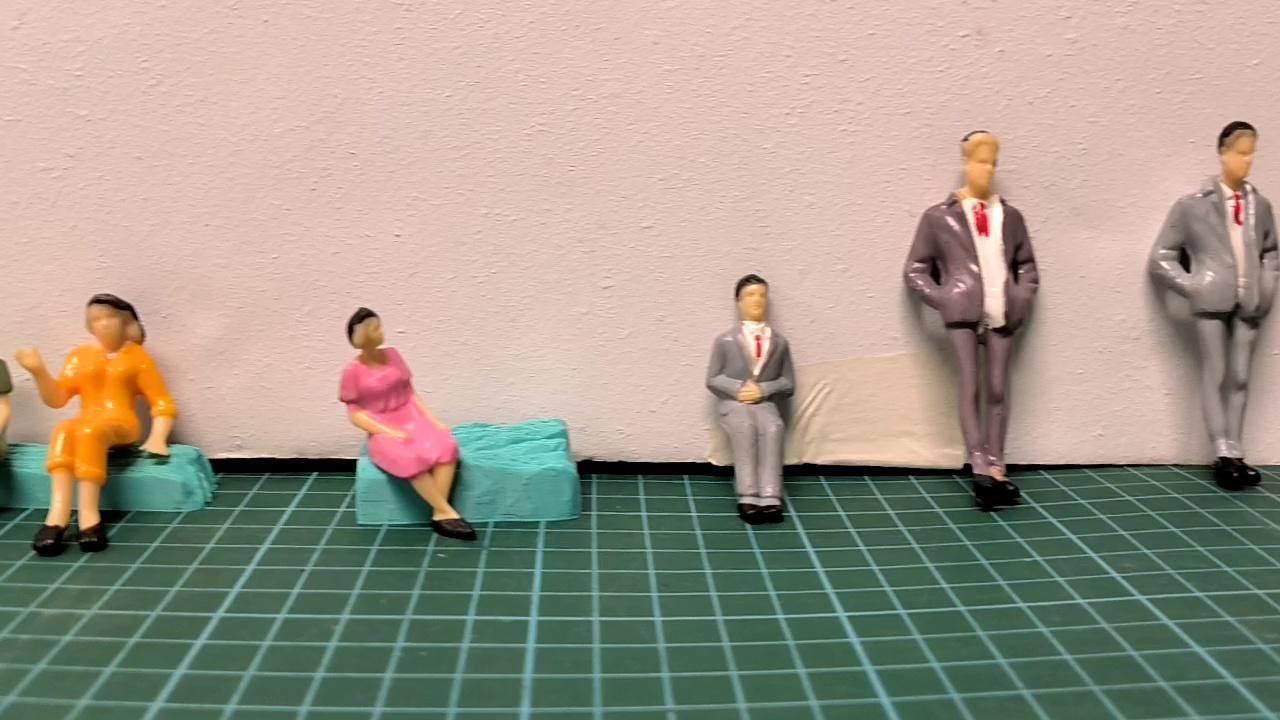human: (904, 128, 1042, 514), (1144, 117, 1280, 484), (11, 292, 182, 558), (335, 304, 479, 542), (704, 270, 795, 522)
